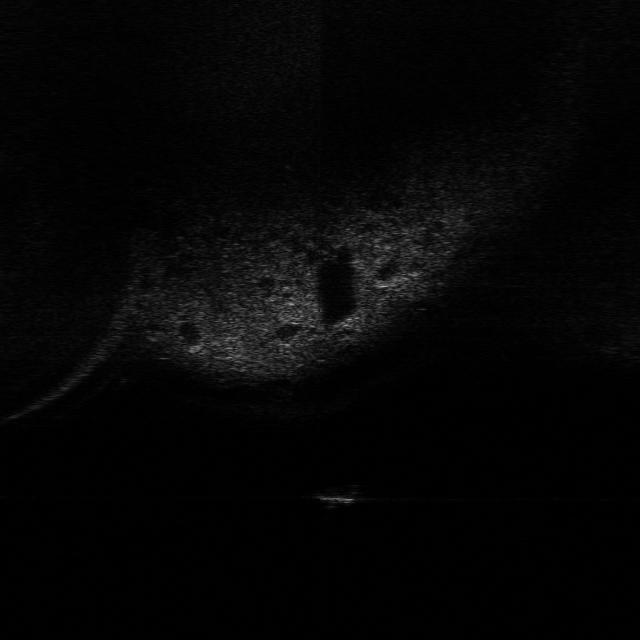cube: (310, 483, 366, 511)
